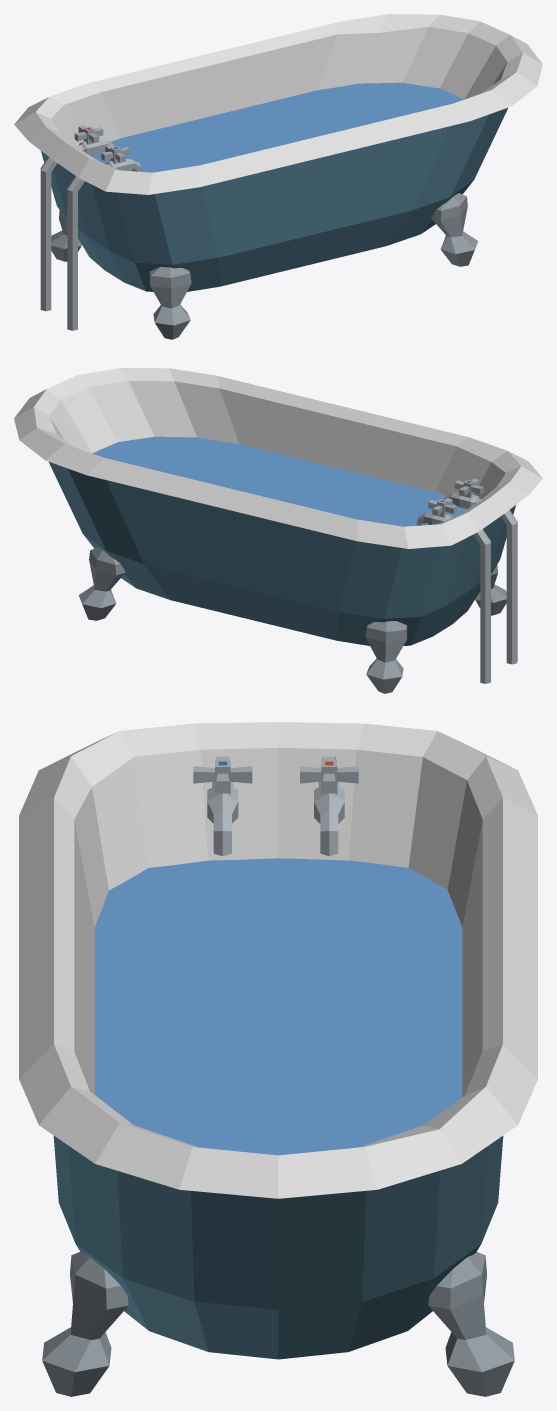
The model's file is SM_Prop_Bath_02.fbx.
3 views of the same model, one above another, from view 1: azimuth 30°, elevation 25°; view 2: azimuth 150°, elevation 25°; view 3: azimuth 270°, elevation 25° (orthographic). The views are drawn at different scales.
Visible parts, largest first — view 1: SM_Prop_Bath_02, SM_Prop_Bath_02_Water; view 2: SM_Prop_Bath_02, SM_Prop_Bath_02_Water; view 3: SM_Prop_Bath_02, SM_Prop_Bath_02_Water.
Part boxes in pixels (left/top/right/bottom): SM_Prop_Bath_02: left=14, top=14, right=542, bottom=339; SM_Prop_Bath_02_Water: left=91, top=82, right=464, bottom=172; SM_Prop_Bath_02: left=14, top=368, right=542, bottom=693; SM_Prop_Bath_02_Water: left=92, top=436, right=466, bottom=526; SM_Prop_Bath_02: left=19, top=722, right=537, bottom=1396; SM_Prop_Bath_02_Water: left=94, top=858, right=462, bottom=1155.
Size of the model in its own units: 233 by 81.31 by 110.
